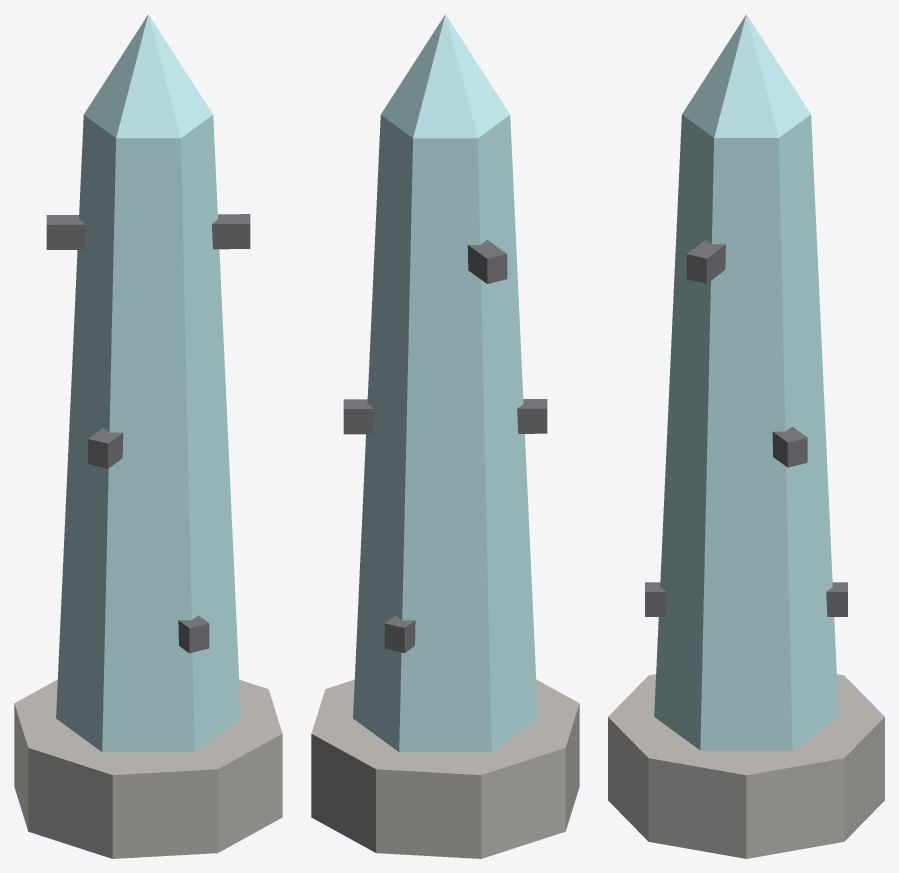
The model's file is boss_pillar.glb.
3 views of the same model, side by side, from view 1: azimuth 30°, elevation 25°; view 2: azimuth 150°, elevation 25°; view 3: azimuth 270°, elevation 25° (orthographic).
Visible parts, largest first — view 1: boss_pillar; view 2: boss_pillar; view 3: boss_pillar.
Boxes of the visible parts, x1,y1,x2,y2 form: boss_pillar: (14,14,282,858); boss_pillar: (311,14,579,858); boss_pillar: (608,14,884,858).
Size of the model in its own units: 3 by 9.4 by 3.
